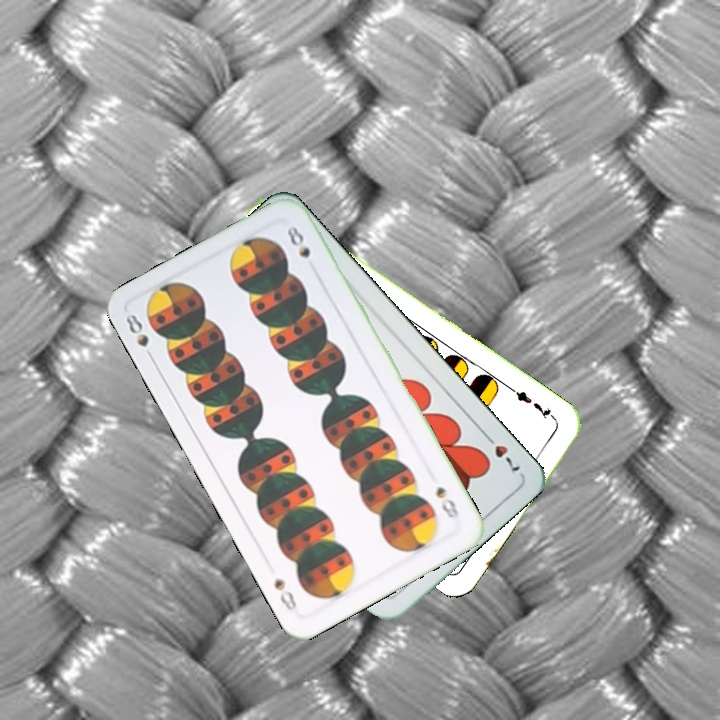E7: (507, 384, 559, 423)
H7: (479, 428, 523, 474)
S8: (121, 309, 157, 365), (431, 482, 462, 521)
